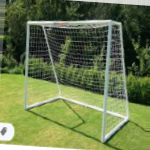goals: (23, 17, 131, 144)
